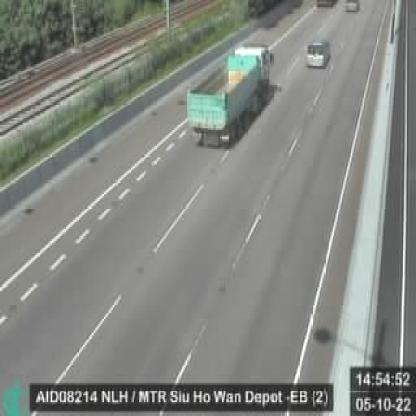Car: (306, 40, 330, 69)
Truck: (186, 43, 272, 149)
